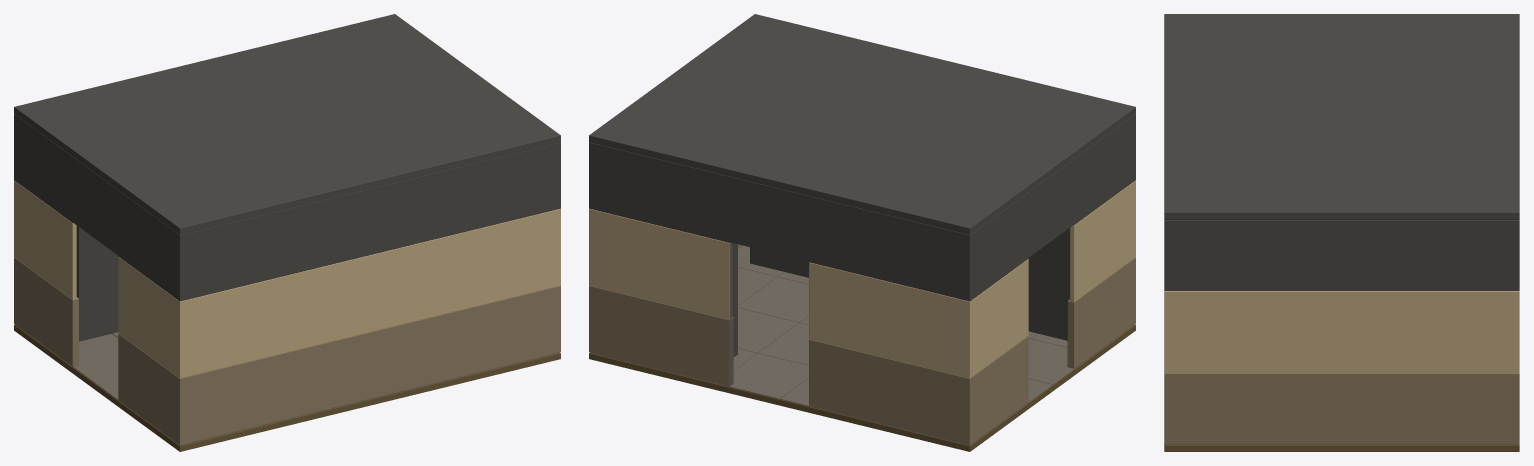
File: gen-shop.glb
The picture shows the model from 3 angles, left to right: view 1: azimuth 30°, elevation 25°; view 2: azimuth 150°, elevation 25°; view 3: azimuth 270°, elevation 25°; orthographic projection. The views are drawn at different scales.
Parts seen in each view (by area): view 1: THE SHOP; view 2: THE SHOP; view 3: THE SHOP.
Part boxes in pixels (x1,y1,x2,y2): THE SHOP: [14, 14, 560, 451]; THE SHOP: [589, 14, 1135, 451]; THE SHOP: [1164, 14, 1519, 451].
Size of the model in its own units: 5.7 by 3.2 by 4.3.
